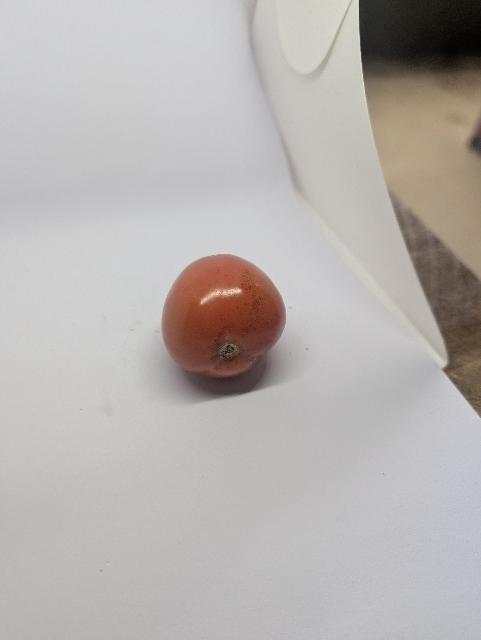red: (147, 236, 309, 387)
